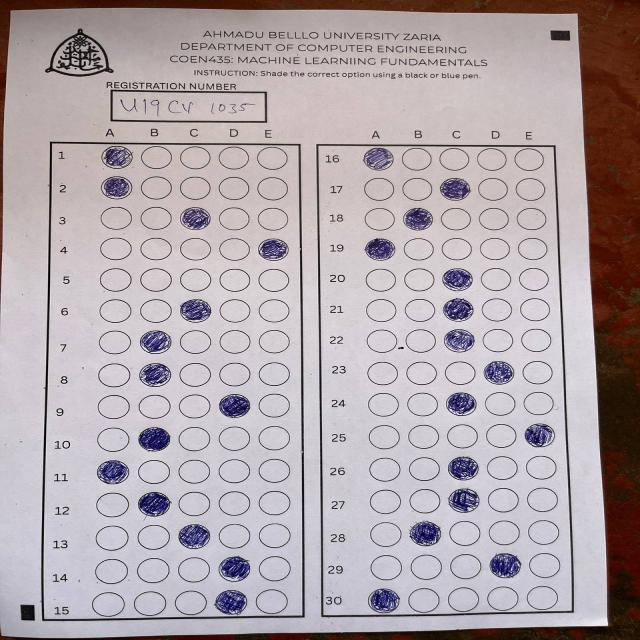bubble: (214, 589, 248, 615), (101, 144, 133, 170), (139, 362, 172, 387), (409, 521, 442, 546), (489, 553, 522, 578), (218, 393, 250, 418), (368, 588, 400, 613), (448, 488, 480, 513), (218, 556, 250, 581), (178, 524, 210, 549), (138, 492, 171, 516), (138, 427, 171, 451), (140, 330, 172, 354), (97, 460, 129, 484), (443, 298, 474, 322), (524, 423, 555, 447), (446, 392, 477, 416), (448, 456, 479, 480), (180, 299, 212, 322), (484, 360, 514, 384), (180, 207, 211, 230), (442, 268, 473, 291), (101, 176, 131, 199), (258, 238, 288, 261), (444, 329, 475, 351), (364, 148, 394, 170), (440, 178, 470, 200), (404, 208, 434, 230), (365, 238, 395, 260)
